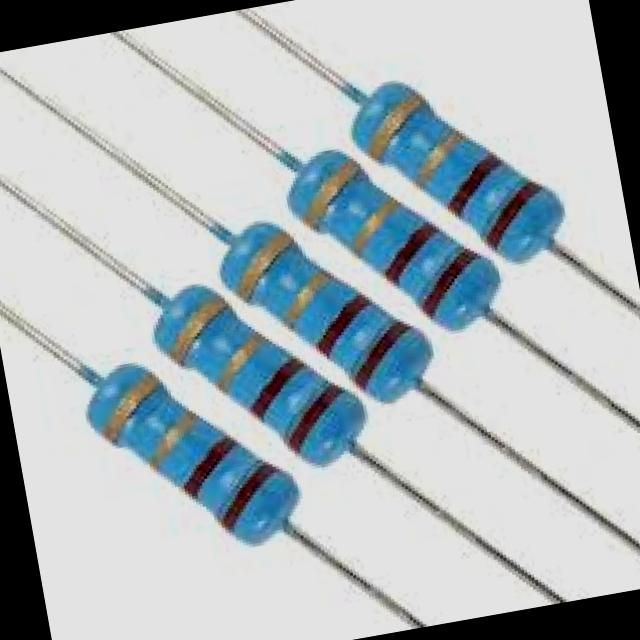Resistor: (88, 366, 299, 541), (224, 222, 431, 398), (289, 151, 494, 328), (162, 284, 366, 460), (360, 84, 565, 259)
brown: (214, 465, 273, 543), (487, 179, 541, 250), (352, 322, 406, 390), (313, 292, 368, 358), (283, 387, 339, 451), (420, 252, 472, 320), (247, 356, 302, 418), (179, 438, 231, 503), (383, 225, 432, 286), (450, 154, 497, 214)
gold: (304, 160, 356, 237), (339, 204, 398, 269), (143, 414, 197, 482), (101, 376, 155, 444), (368, 95, 418, 167), (236, 236, 287, 303), (281, 273, 331, 333), (414, 126, 462, 187), (169, 302, 220, 359), (212, 336, 262, 394)
